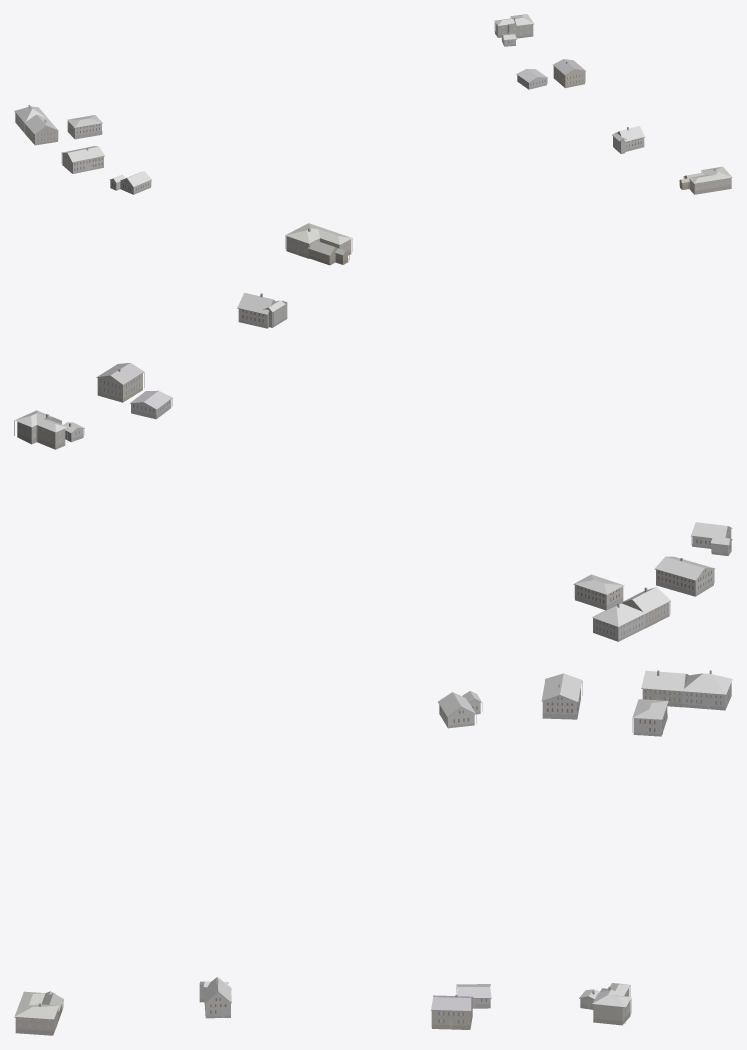
3 views of the same model, one above another, from view 1: azimuth 30°, elevation 25°; view 2: azimuth 150°, elevation 25°; view 3: azimuth 270°, elevation 25° (orthographic). The views are drawn at different scales.
Visible parts, largest first — view 1: bld; view 2: bld; view 3: bld.
Boxes of the visible parts, box(x1,y1,x2,y2) form: bld: box(14, 14, 732, 194); bld: box(14, 223, 732, 641); bld: box(14, 670, 732, 1035).
Bounding box in the file's own units: 265 × 14.23 × 233.
